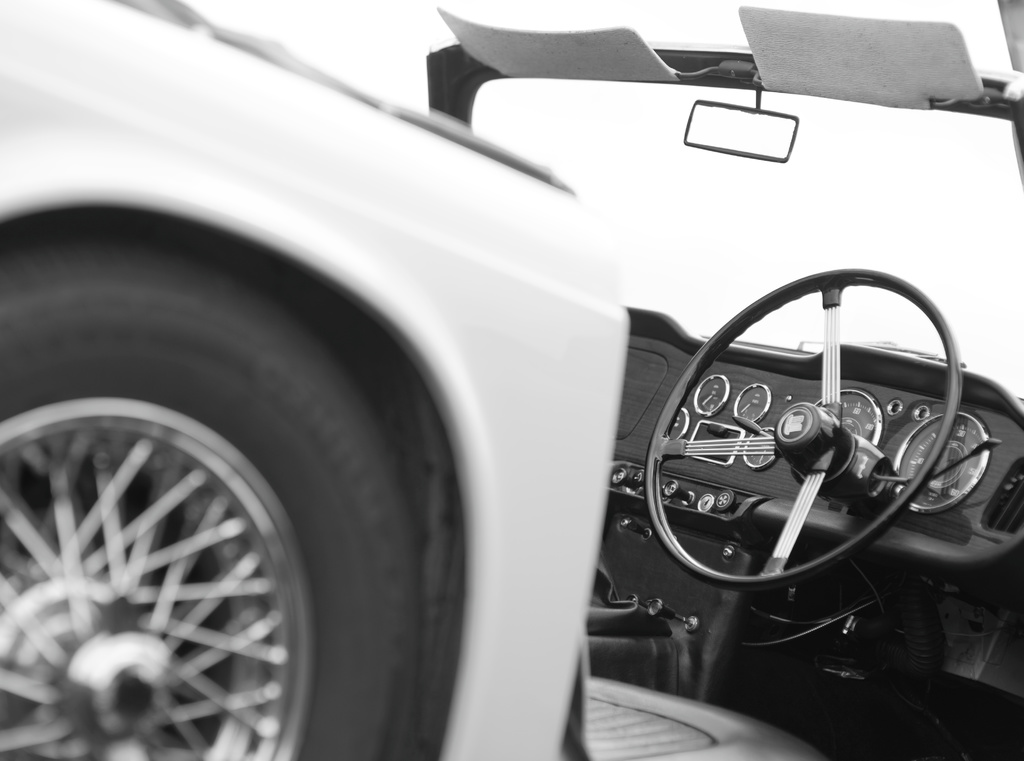Car: (0, 19, 964, 761)
